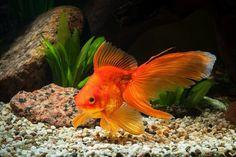goldfish: (67, 54, 186, 128)
